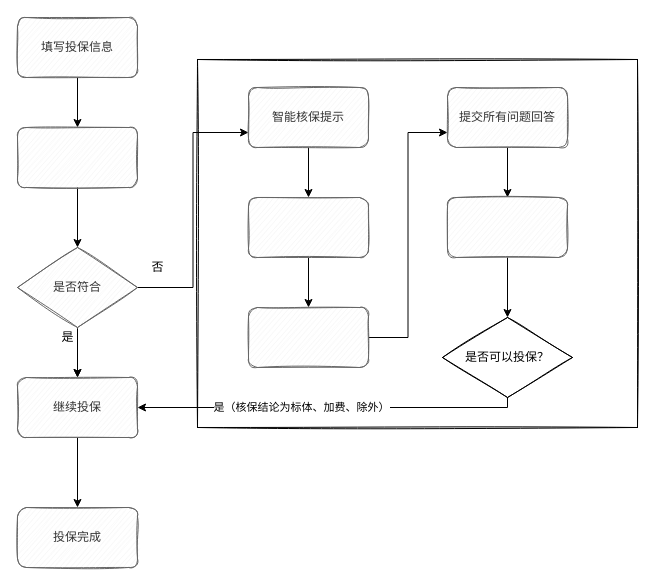
The diagram is 655 pixels wide and 585 high, and some of its shapes have lost their labels. The centre of each missing label's shape, as x and y in pixels:
"回答问题" goes at point 308,337.
"核保结论" goes at point 507,227.
"确认健康告知" goes at point 77,157.
"选择疾病" goes at point 308,227.
